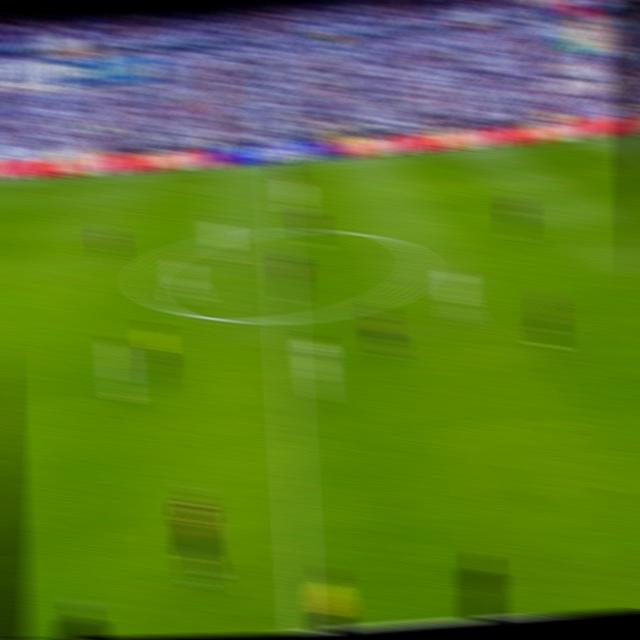halfcircle_bottom: (273, 305, 298, 332)
halfcircle_top: (268, 220, 292, 240)
midline_bottom_intersection: (288, 613, 318, 634)
midline_top_intersection: (266, 159, 288, 174)
